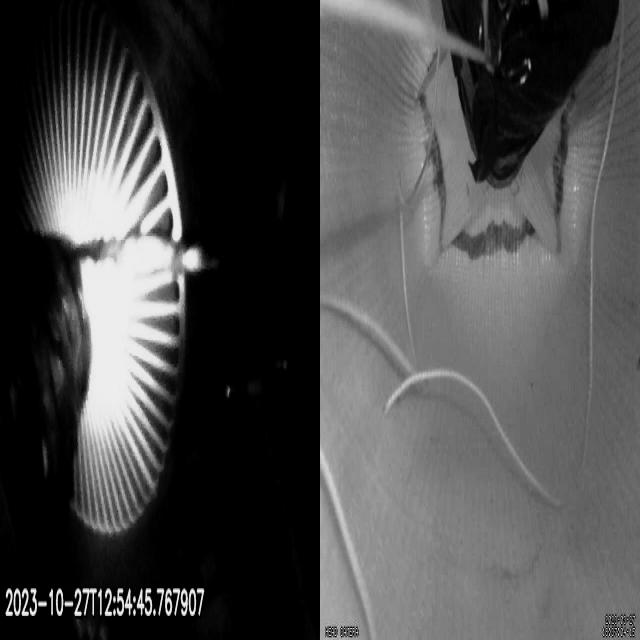red-circle: (418, 51, 574, 262)
